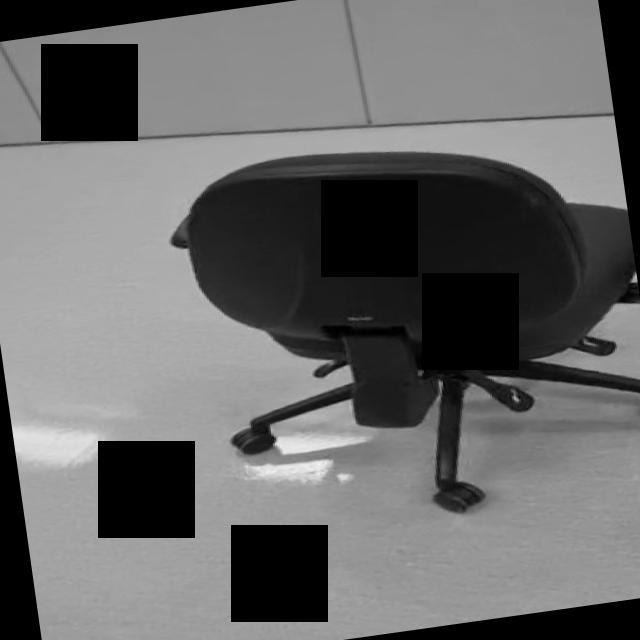chair: (161, 110, 640, 545)
